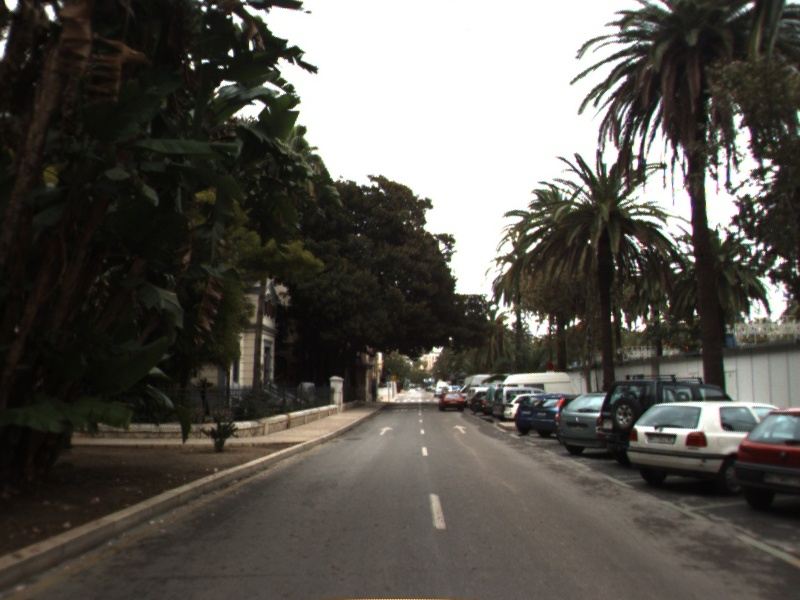STRAIGHT: (450, 422, 471, 436), (376, 425, 396, 437)
